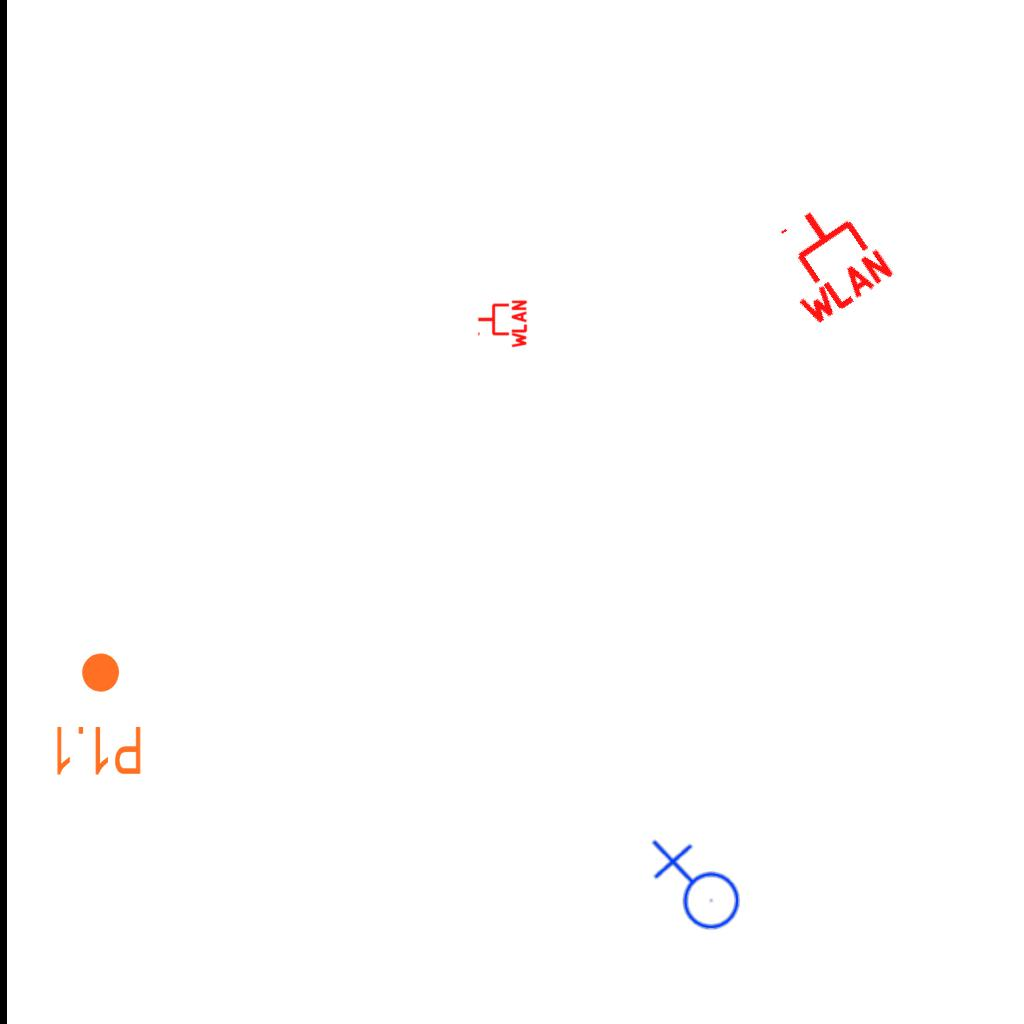Downlight_LED_Einbauleuchten_Flur: (51, 650, 144, 778)
Elektroanschluss_allgemein_230V_Geraeteanschlussdose_230V: (647, 839, 741, 938)
WLAN: (754, 186, 899, 332), (476, 298, 528, 350)
